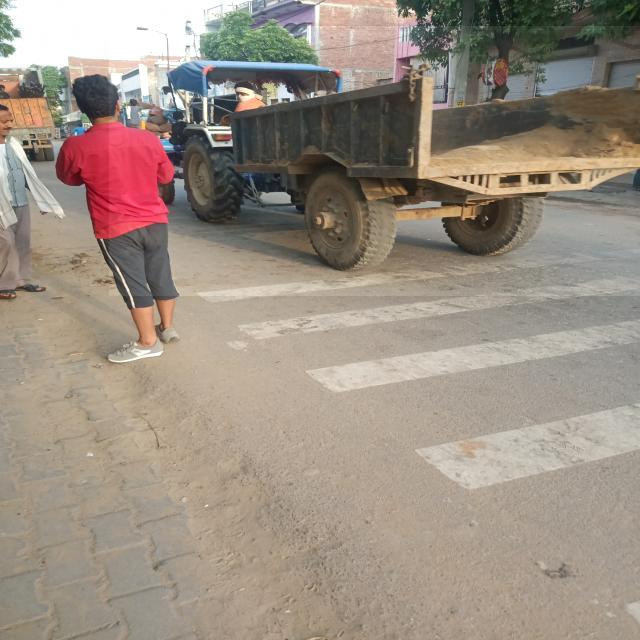Tractot: (109, 26, 640, 296)
